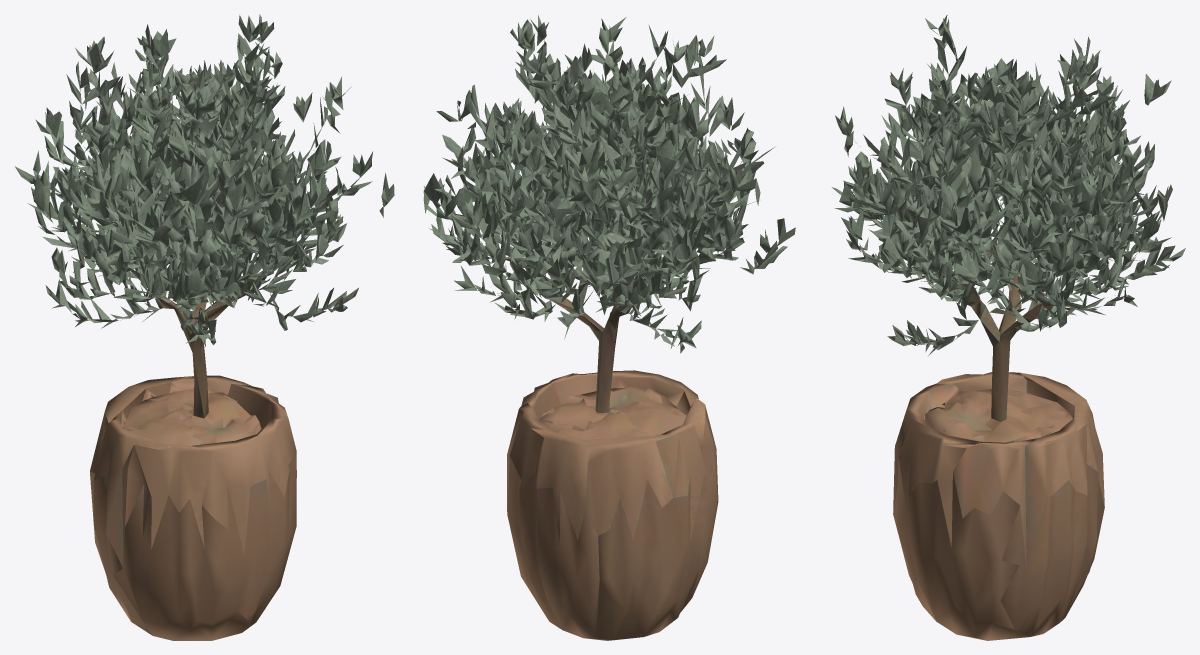
The model's file is olive-tree-ribbed-planter.glb.
The picture shows the model from 3 angles, left to right: view 1: azimuth 30°, elevation 25°; view 2: azimuth 150°, elevation 25°; view 3: azimuth 270°, elevation 25°; orthographic projection.
Visible parts, largest first — view 1: mesh_node; view 2: mesh_node; view 3: mesh_node.
Part boxes in pixels (x1,y1,x2,y2): mesh_node: (15,14,394,640); mesh_node: (423,15,795,640); mesh_node: (831,14,1185,640).
Bounding box in the file's own units: 1.14 × 1.9 × 1.08.
Materials: 1 (1 with a texture image).
